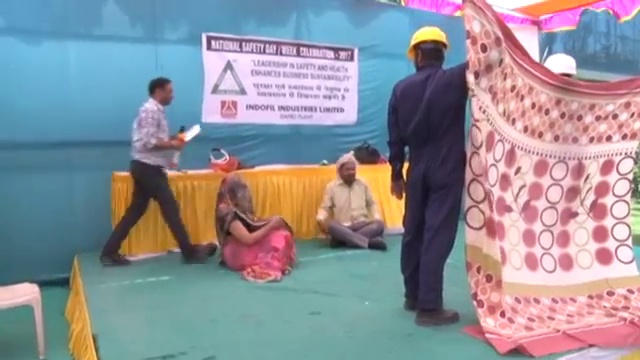helmet: (407, 25, 448, 56), (542, 50, 577, 77)
helmet_off: (334, 150, 359, 186), (218, 169, 247, 197), (147, 76, 173, 106)
helmet_on: (406, 25, 449, 70)
person: (384, 27, 468, 326), (103, 78, 209, 266), (211, 169, 296, 282), (318, 151, 388, 252)
